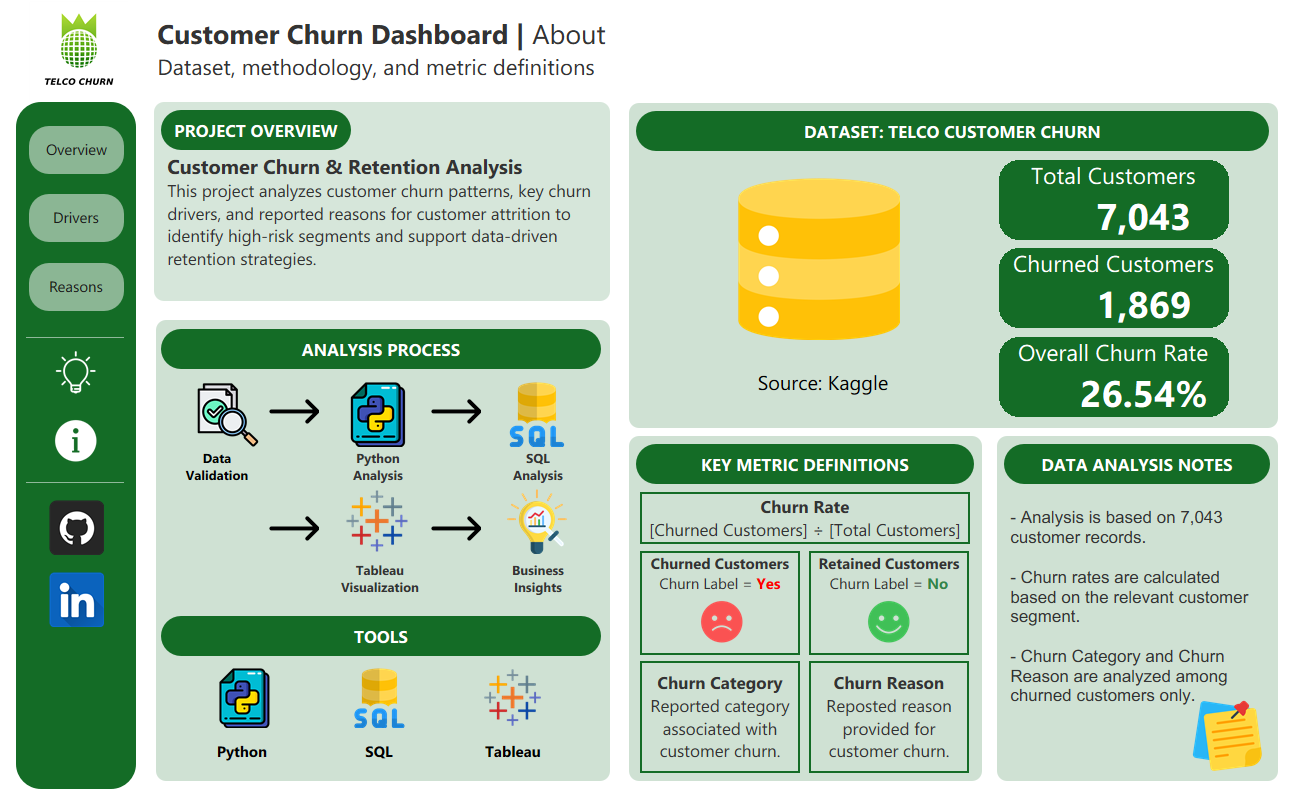

This screenshot's page, from the dashboard's own definition file:
{"tool":"tableau","page":{"name":"About","canvas":[1300,800],"ordinal":0},"visuals":[{"type":"image","param":"Image/logo telco churn.png","box":[12,3,135,99]},{"type":"title","box":[155,12,1145,76]},{"type":"blank","box":[17,104,120,687]},{"type":"text","box":[155,104,456,199]},{"type":"blank","box":[630,105,649,325]},{"type":"text","box":[162,112,190,40]},{"type":"text","box":[637,113,633,40]},{"type":"dashboard-object","box":[30,128,95,48]},{"type":"worksheet","title":"KPI Total Customers","mark":"Automatic","box":[1000,162,230,80]},{"type":"image","param":"Image/database.png","box":[739,176,162,170]},{"type":"dashboard-object","box":[30,196,95,48]},{"type":"worksheet","title":"KPI - Churned Customers","mark":"Automatic","box":[1000,250,230,80]},{"type":"dashboard-object","box":[30,265,95,48]},{"type":"blank","box":[157,322,454,461]},{"type":"text","box":[162,331,440,40]},{"type":"blank","box":[27,339,98,1]},{"type":"worksheet","title":"KPI - Churn Rate","mark":"Automatic","box":[1000,339,230,80]},{"type":"dashboard-object","box":[54,352,45,45]},{"type":"text","box":[741,360,166,48]},{"type":"image","param":"Image/data-audit.png","box":[196,384,65,65]},{"type":"image","param":"Image/file.png","box":[346,384,65,65]},{"type":"image","param":"Image/sql-server.png","box":[505,384,65,65]},{"type":"image","param":"Image/right-arrow.png","box":[239,388,112,50]},{"type":"image","param":"Image/right-arrow.png","box":[401,388,112,50]},{"type":"dashboard-object","box":[54,420,45,45]},{"type":"blank","box":[630,438,353,345]},{"type":"text","box":[998,438,281,345]},{"type":"text","box":[177,442,82,54]},{"type":"text","box":[338,442,82,54]},{"type":"text","box":[498,442,82,54]},{"type":"text","box":[637,446,338,40]},{"type":"text","box":[1005,446,266,40]},{"type":"blank","box":[27,484,98,1]},{"type":"image","param":"Image/icons8-tableau-software-100.png","box":[346,491,65,65]},{"type":"image","param":"Image/insight.png","box":[505,491,65,65]},{"type":"text","box":[641,494,330,52]},{"type":"image","param":"Image/github.png","box":[50,502,55,55]},{"type":"image","param":"Image/right-arrow.png","box":[239,505,112,50]},{"type":"image","param":"Image/right-arrow.png","box":[401,505,112,50]},{"type":"text","box":[641,553,160,104]},{"type":"text","box":[810,553,160,104]},{"type":"text","box":[338,554,86,54]},{"type":"text","box":[498,554,82,54]},{"type":"image","param":"Image/linkedin.png","box":[50,574,55,55]},{"type":"image","param":"Image/icons8-sad-100 (1).png","box":[695,601,56,45]},{"type":"image","param":"Image/icons8-smile-100 (1).png","box":[862,601,56,45]},{"type":"text","box":[162,618,440,40]},{"type":"text","box":[641,663,160,112]},{"type":"text","box":[810,663,160,112]},{"type":"image","param":"Image/file.png","box":[215,670,60,60]},{"type":"image","param":"Image/sql-server.png","box":[350,670,60,60]},{"type":"image","param":"Image/icons8-tableau-software-100.png","box":[484,670,60,60]},{"type":"image","param":"Image/sticky-note.png","box":[1186,700,83,75]},{"type":"text","box":[204,726,78,54]},{"type":"text","box":[341,726,78,54]},{"type":"text","box":[475,726,78,54]}]}

Visuals, with their boxes in screenshot pixels (x1, y1, x2, y2), scaled from the page's 1300x800 canvas onto the 1297x796 screenshot:
image: l=12, t=3, r=147, b=101
title: l=155, t=12, r=1296, b=88
blank: l=17, t=103, r=137, b=787
text: l=155, t=103, r=610, b=301
blank: l=629, t=104, r=1276, b=428
text: l=162, t=111, r=351, b=151
text: l=636, t=112, r=1267, b=152
dashboard-object: l=30, t=127, r=125, b=175
"KPI Total Customers" worksheet: l=998, t=161, r=1227, b=241
image: l=737, t=175, r=899, b=344
dashboard-object: l=30, t=195, r=125, b=243
"KPI - Churned Customers" worksheet: l=998, t=249, r=1227, b=328
dashboard-object: l=30, t=264, r=125, b=311
blank: l=157, t=320, r=610, b=779
text: l=162, t=329, r=601, b=369
blank: l=27, t=337, r=125, b=338
"KPI - Churn Rate" worksheet: l=998, t=337, r=1227, b=417
dashboard-object: l=54, t=350, r=99, b=395
text: l=739, t=358, r=905, b=406
image: l=196, t=382, r=260, b=447
image: l=345, t=382, r=410, b=447
image: l=504, t=382, r=569, b=447
image: l=238, t=386, r=350, b=436
image: l=400, t=386, r=512, b=436
dashboard-object: l=54, t=418, r=99, b=463
blank: l=629, t=436, r=981, b=779
text: l=996, t=436, r=1276, b=779
text: l=177, t=440, r=258, b=494
text: l=337, t=440, r=419, b=494
text: l=497, t=440, r=579, b=494
text: l=636, t=444, r=973, b=484
text: l=1003, t=444, r=1268, b=484
blank: l=27, t=482, r=125, b=483
image: l=345, t=489, r=410, b=553
image: l=504, t=489, r=569, b=553
text: l=640, t=492, r=969, b=543
image: l=50, t=499, r=105, b=554
image: l=238, t=502, r=350, b=552
image: l=400, t=502, r=512, b=552
text: l=640, t=550, r=799, b=654
text: l=808, t=550, r=968, b=654
text: l=337, t=551, r=423, b=605
text: l=497, t=551, r=579, b=605
image: l=50, t=571, r=105, b=626
image: l=693, t=598, r=749, b=643
image: l=860, t=598, r=916, b=643
text: l=162, t=615, r=601, b=655
text: l=640, t=660, r=799, b=771
text: l=808, t=660, r=968, b=771
image: l=215, t=667, r=274, b=726
image: l=349, t=667, r=409, b=726
image: l=483, t=667, r=543, b=726
image: l=1183, t=696, r=1266, b=771
text: l=204, t=722, r=281, b=776
text: l=340, t=722, r=418, b=776
text: l=474, t=722, r=552, b=776
